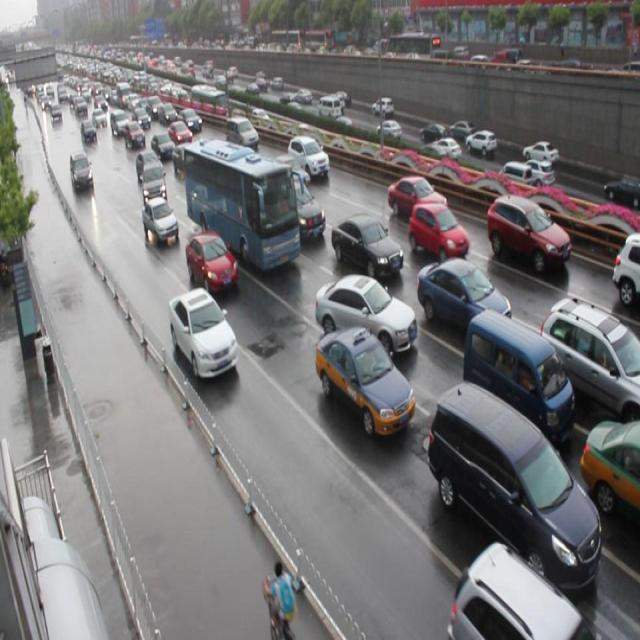car: (445, 535, 597, 640), (537, 296, 640, 427), (316, 324, 414, 436), (314, 271, 417, 357), (416, 254, 510, 338), (484, 193, 571, 274), (577, 418, 640, 528), (167, 286, 239, 378), (330, 214, 403, 279), (407, 200, 468, 262), (184, 226, 238, 294), (276, 172, 326, 240), (386, 172, 448, 222), (611, 229, 640, 303), (287, 132, 330, 181), (141, 196, 180, 242), (270, 154, 309, 192), (142, 159, 168, 204)
truck: (427, 382, 600, 595), (462, 308, 571, 439), (224, 115, 259, 150)
van: (182, 139, 299, 272)
